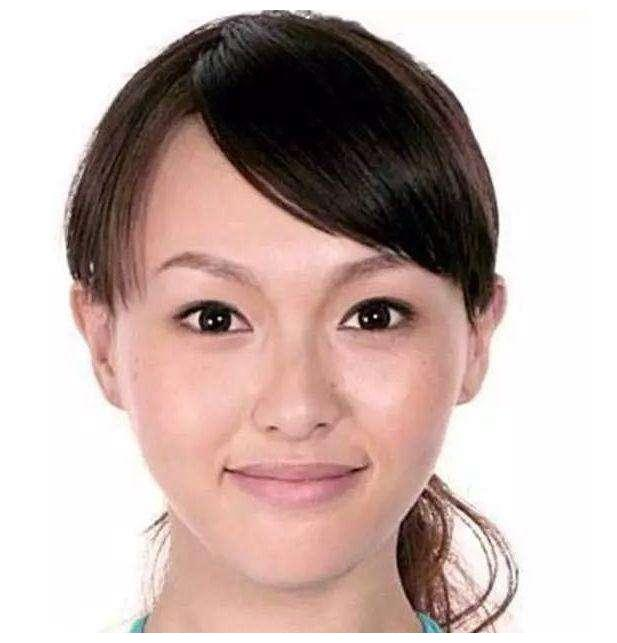unmask: (110, 132, 476, 564)
